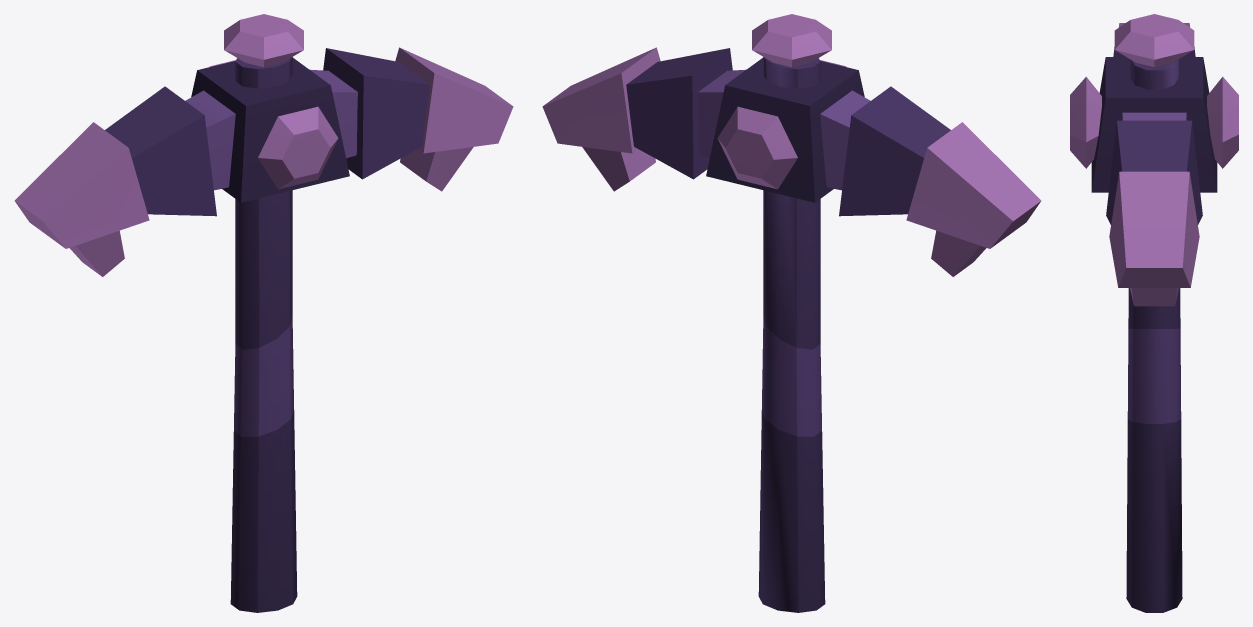
File: 10_pickaxe_Ametyst.fbx
The picture shows the model from 3 angles, left to right: view 1: azimuth 30°, elevation 25°; view 2: azimuth 150°, elevation 25°; view 3: azimuth 270°, elevation 25°; orthographic projection.
Visible parts, largest first — view 1: 10_pickaxe_Ametyst; view 2: 10_pickaxe_Ametyst; view 3: 10_pickaxe_Ametyst.
Boxes of the visible parts, box(x1,y1,x2,y2) form: 10_pickaxe_Ametyst: box(14, 14, 513, 612); 10_pickaxe_Ametyst: box(542, 14, 1041, 612); 10_pickaxe_Ametyst: box(1070, 14, 1238, 612).
Size of the model in its own units: 102 by 118 by 31.65.
